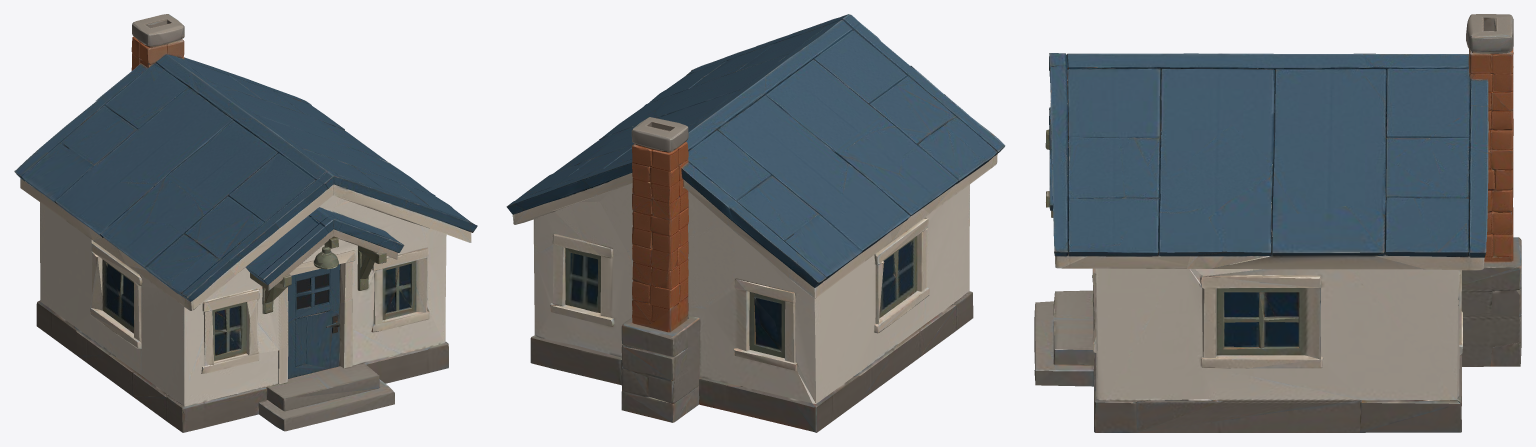
File: angular-common-buildings-townhouse-entrance-module-compact-normal.glb
The picture shows the model from 3 angles, left to right: view 1: azimuth 30°, elevation 25°; view 2: azimuth 150°, elevation 25°; view 3: azimuth 270°, elevation 25°; orthographic projection. The views are drawn at different scales.
Visible parts, largest first — view 1: Mesh_0; view 2: Mesh_0; view 3: Mesh_0.
Boxes of the visible parts, box(x1,y1,x2,y2) form: Mesh_0: box(14, 14, 477, 432); Mesh_0: box(506, 14, 1005, 432); Mesh_0: box(1034, 14, 1521, 432).
Bounding box in the file's own units: 2.61 × 2.23 × 3.
Materials: 1 (1 with a texture image).
